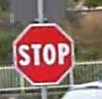stop: (12, 20, 76, 86)
